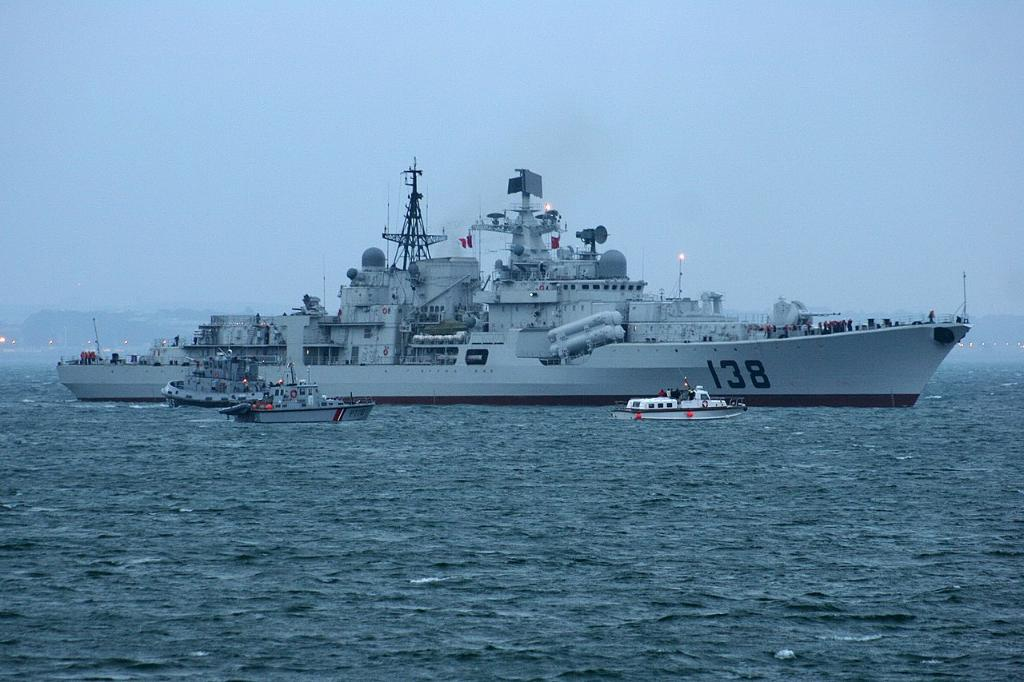PassengerShip: (224, 372, 386, 428), (150, 349, 278, 415), (612, 383, 752, 425)
